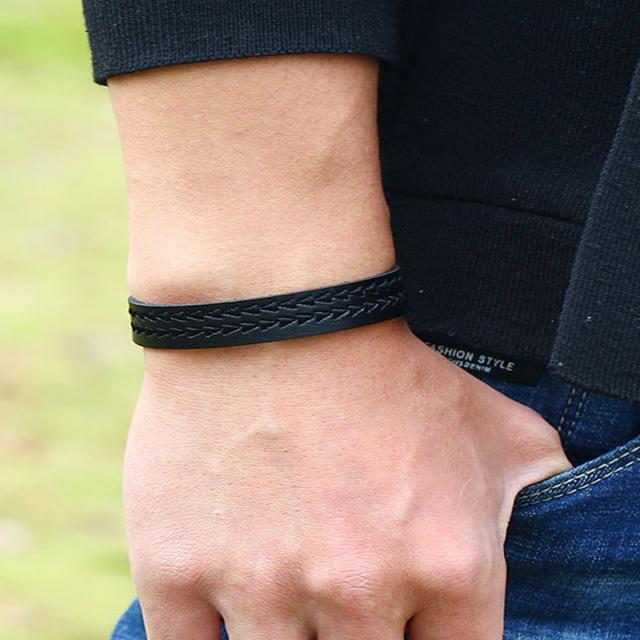bracelet: (45, 225, 560, 378)
